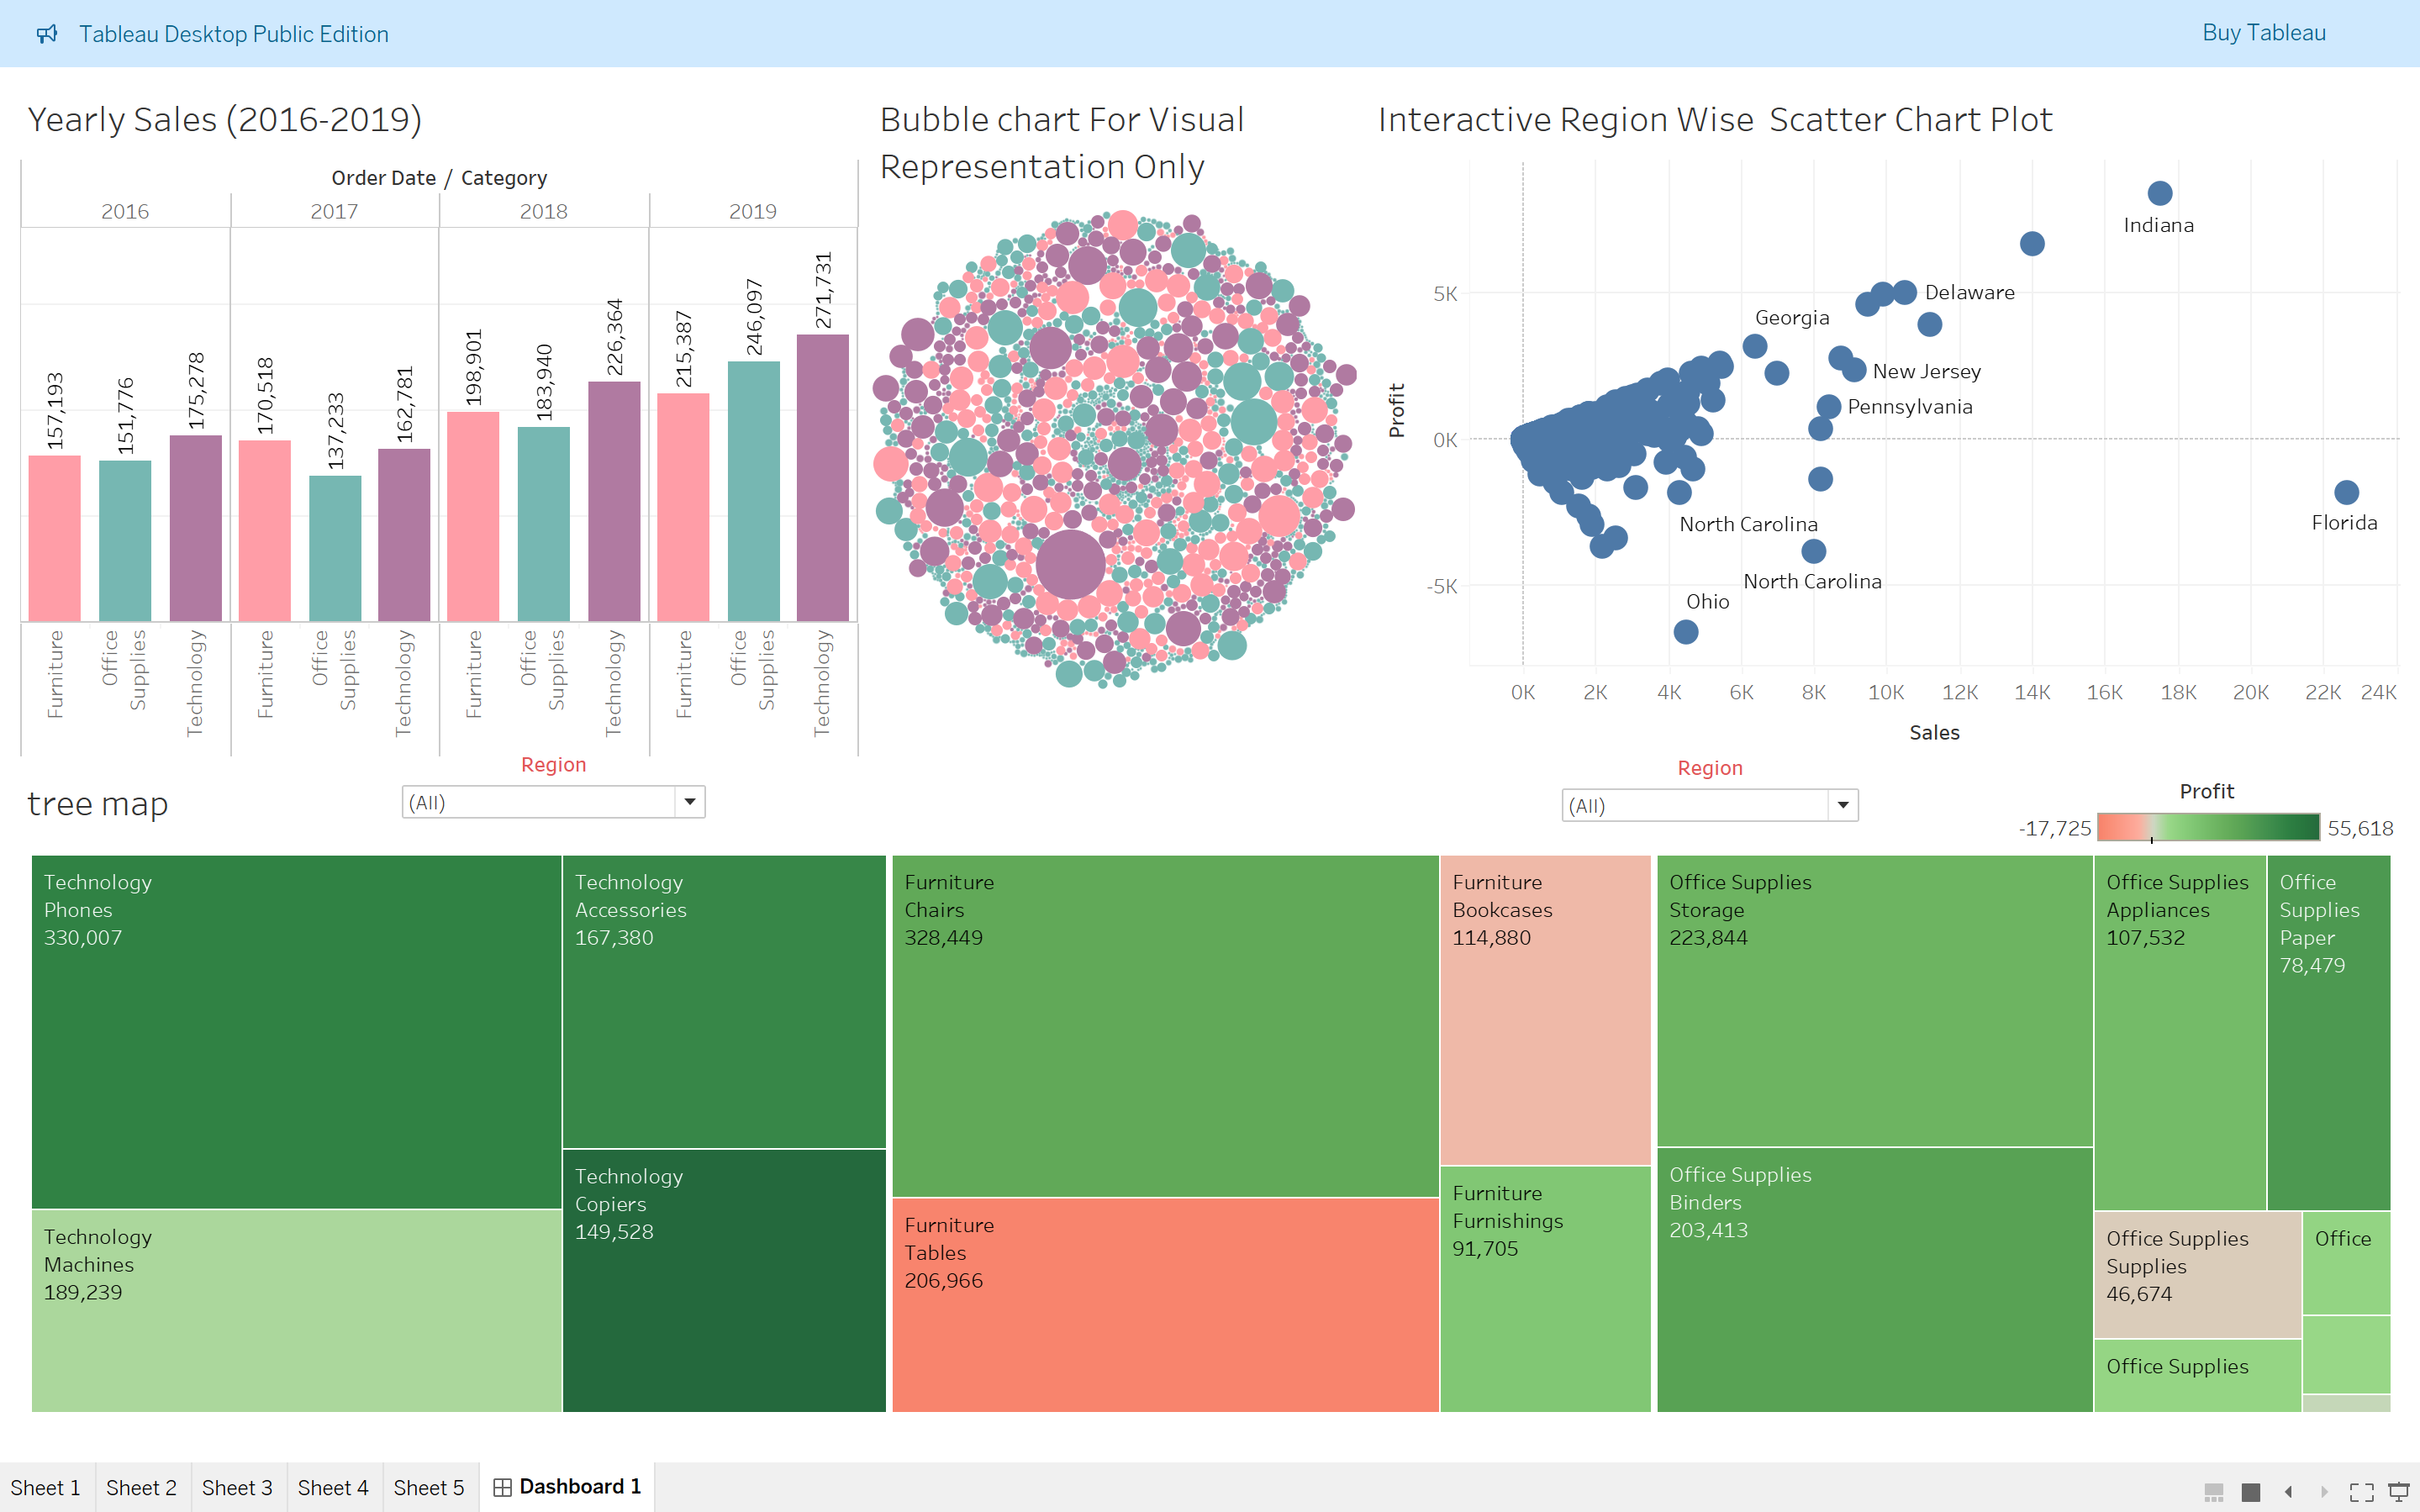

Layout of this report page (visuals, bound fields, positions):
{"tool":"tableau","page":{"name":"Dashboard 1","canvas":[1000,1000],"units":"permille","ordinal":0},"visuals":[{"type":"worksheet","title":"Sheet 2","mark":"Bar","rows":["Sales"],"cols":["Order Date","Category"],"box":[6.5,11.8,351.4,488.2]},{"type":"worksheet","title":"Sheet 4","mark":"Circle","box":[357.9,11.8,205.1,488.2]},{"type":"worksheet","title":"Sheet 5","mark":"Circle","rows":["Profit"],"cols":["Sales"],"box":[563,11.8,430.5,488.2]},{"type":"filter","title":"Sheet 2","param":"[federated.0diz4rk1cwzo2k1dgq7wd08363dc].[none:Region:nk]","box":[163.6,489.6,130.2,65.1]},{"type":"filter","title":"Sheet 5","param":"[federated.0diz4rk1cwzo2k1dgq7wd08363dc].[none:Region:nk]","box":[642.8,491.1,126.9,66.6]},{"type":"worksheet","title":"Sheet 3","mark":"Automatic","box":[6.5,500,987,488.2]},{"type":"legend","title":"Sheet 3","param":"[federated.0diz4rk1cwzo2k1dgq7wd08363dc].[sum:Profit:qk]","box":[831.6,508.9,161.1,59.2]}]}

Visuals, with their boxes on the dashboard's canvas, which has no fixed pixel size, in thousandths of its width and height (x1, y1, x2, y2). These are canvas units, not pixel positions in the 2420x1512 screenshot, which may show the page scaled, cropped or inside an application window:
"Sheet 2" worksheet (Bar marks): 6/12/358/500
"Sheet 4" worksheet (Circle marks): 358/12/563/500
"Sheet 5" worksheet (Circle marks): 563/12/994/500
"Sheet 2" filter: 164/490/294/555
"Sheet 5" filter: 643/491/770/558
"Sheet 3" worksheet: 6/500/994/988
"Sheet 3" legend: 832/509/993/568
